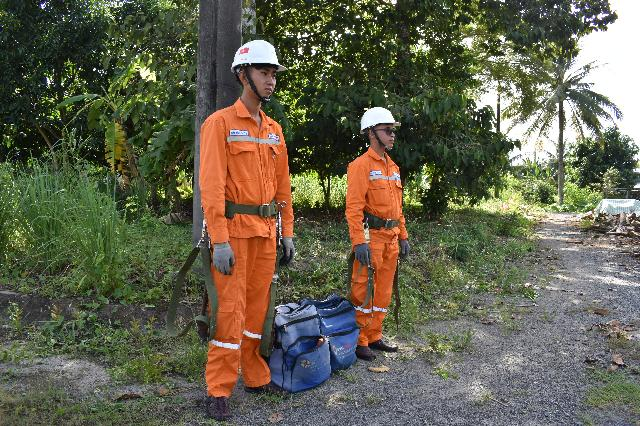gloves: (204, 236, 240, 274), (275, 233, 301, 270), (393, 237, 416, 263), (350, 243, 373, 268)
harness: (200, 193, 287, 227), (359, 203, 408, 236)
helmet: (224, 31, 295, 78), (348, 107, 410, 138)
shoes: (247, 371, 297, 404), (206, 387, 237, 423), (352, 333, 377, 364), (374, 333, 401, 353)
